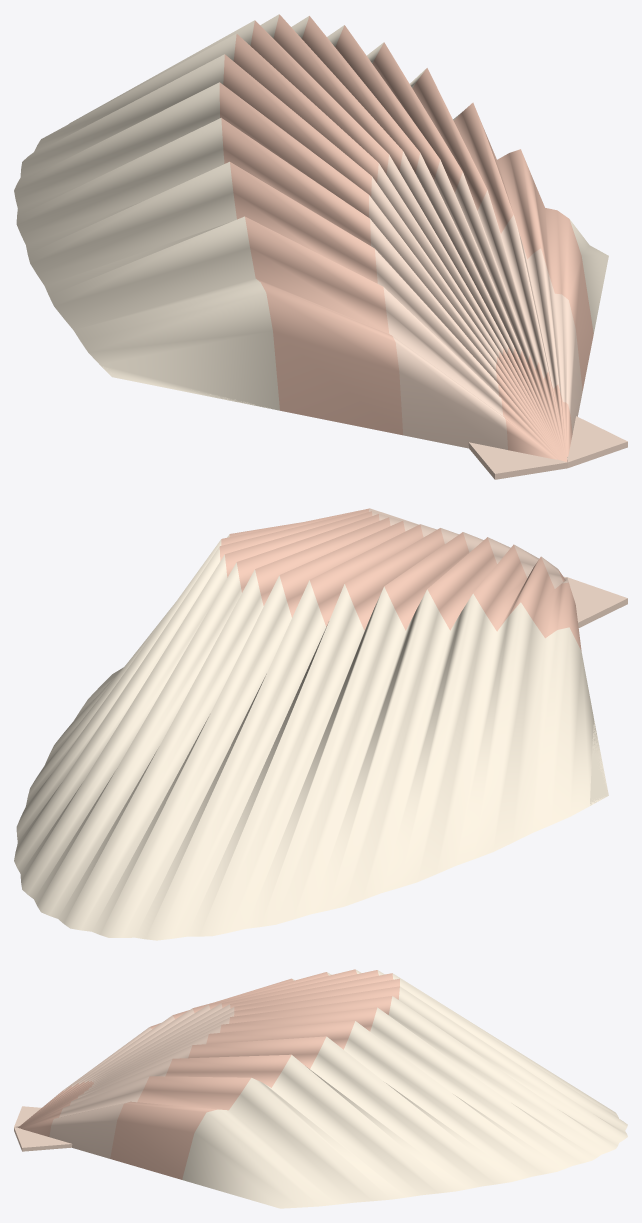
Rendered from shell.glb.
3 renders of one model, top to bottom at view 1: azimuth 30°, elevation 25°; view 2: azimuth 150°, elevation 25°; view 3: azimuth 270°, elevation 25°, orthographic. The views are drawn at different scales.
Visible parts, largest first — view 1: Shell | domed ribbed fan, Shell | triangular hinge ear, Shell | triangular hinge ear.001; view 2: Shell | domed ribbed fan, Shell | triangular hinge ear, Shell | flat underside; view 3: Shell | domed ribbed fan, Shell | triangular hinge ear.001.
Boxes of the visible parts, x1,y1,x2,y2 form: Shell | domed ribbed fan: [14, 14, 608, 461]; Shell | triangular hinge ear: [468, 442, 567, 479]; Shell | triangular hinge ear.001: [567, 416, 627, 467]; Shell | domed ribbed fan: [14, 508, 608, 940]; Shell | triangular hinge ear: [567, 577, 627, 627]; Shell | flat underside: [590, 721, 608, 805]; Shell | domed ribbed fan: [18, 969, 627, 1208]; Shell | triangular hinge ear.001: [14, 1127, 72, 1151].
Bounding box in the file's own units: 0.045 × 0.02 × 0.075.
